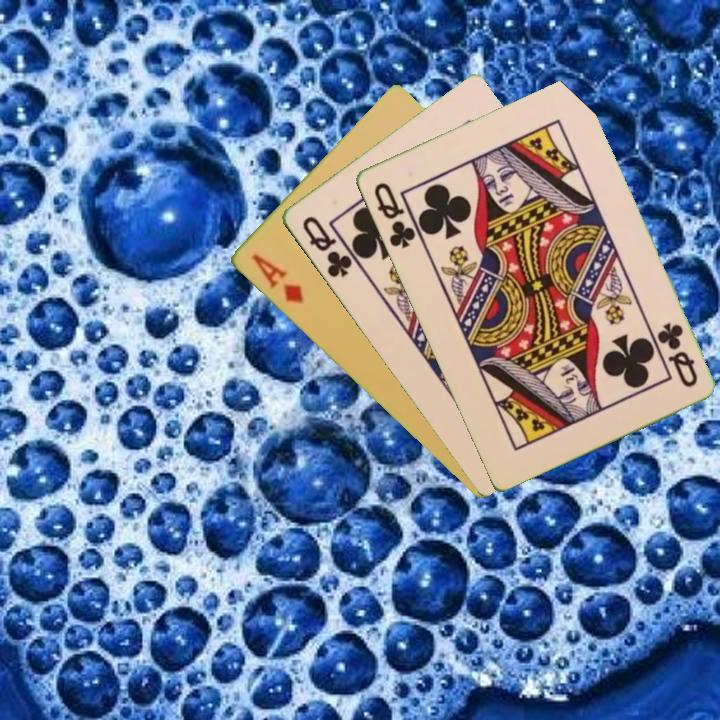Ad: (247, 250, 306, 306)
Qc: (298, 212, 355, 281), (369, 178, 418, 251), (653, 318, 700, 390)
